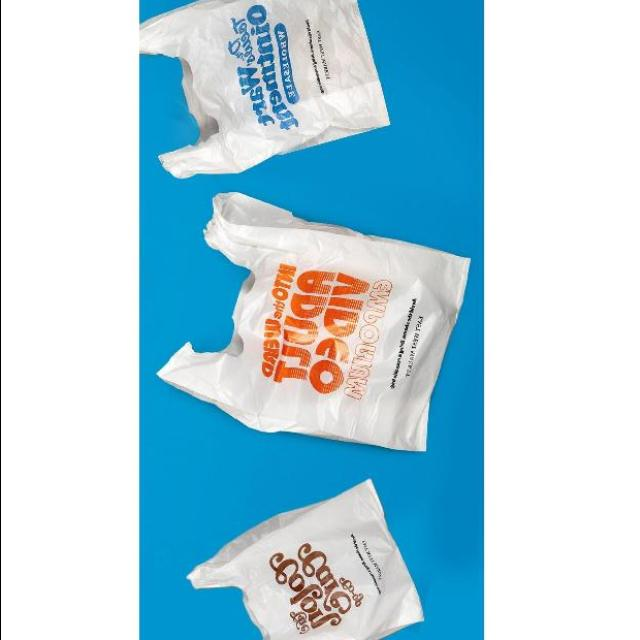plastik: (157, 193, 468, 451), (139, 0, 387, 177), (187, 480, 422, 640)
